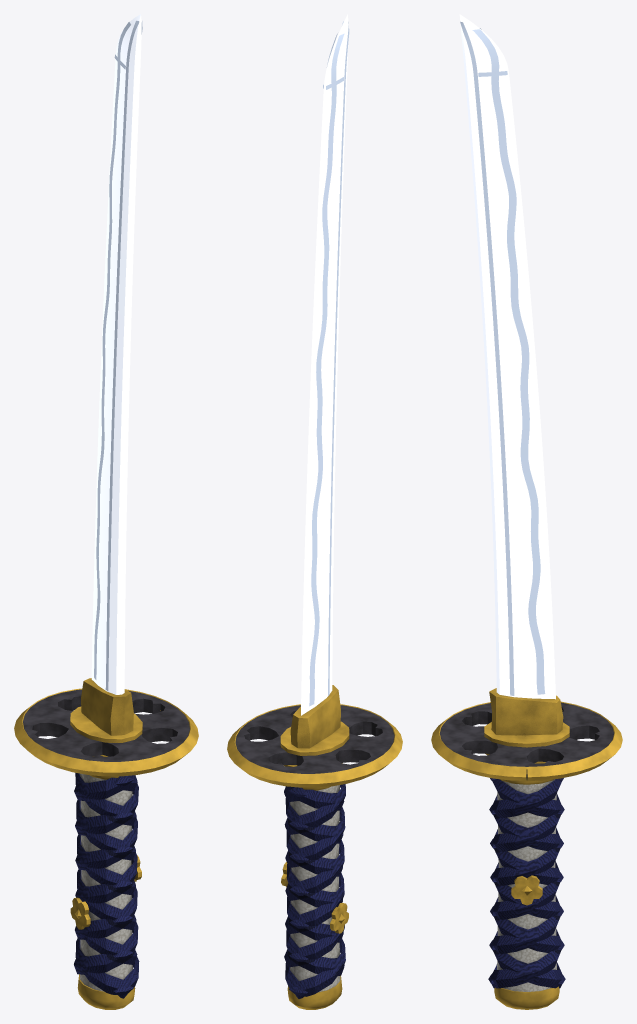
File: katana.fbx
The picture shows the model from 3 angles, left to right: view 1: azimuth 30°, elevation 25°; view 2: azimuth 150°, elevation 25°; view 3: azimuth 270°, elevation 25°; orthographic projection. The views are drawn at different scales.
Parts seen in each view (by area): view 1: katana, katana_blade, katana_glow; view 2: katana, katana_blade, katana_glow; view 3: katana_blade, katana, katana_glow.
Boxes of the visible parts, <box> form: katana: <box>14,678,198,1009</box>; katana_blade: <box>91,14,141,694</box>; katana_glow: <box>94,20,142,690</box>; katana: <box>227,685,402,1009</box>; katana_blade: <box>301,14,348,715</box>; katana_glow: <box>309,21,349,706</box>; katana_blade: <box>459,14,555,699</box>; katana: <box>431,688,622,1009</box>; katana_glow: <box>460,21,545,695</box>.
Size of the model in its own units: 94.38 by 584 by 102.
3 materials, 1 textured.
